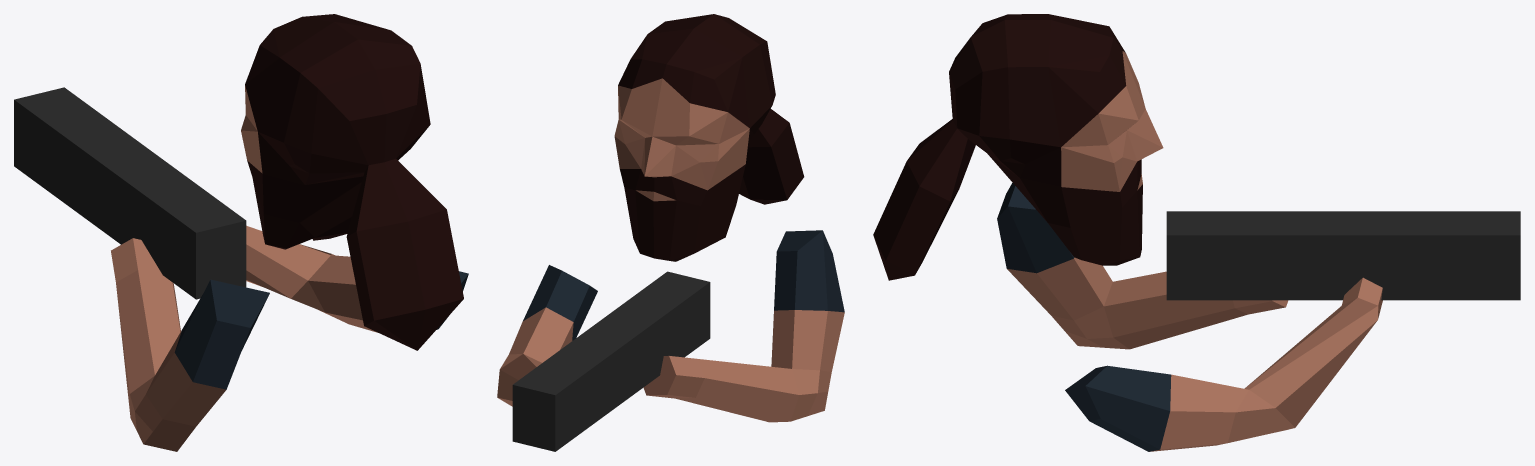
The model's file is player_head.obj.
The picture shows the model from 3 angles, left to right: view 1: azimuth 30°, elevation 25°; view 2: azimuth 150°, elevation 25°; view 3: azimuth 270°, elevation 25°; orthographic projection. The views are drawn at different scales.
Parts seen in each view (by area): view 1: Cube.002; view 2: Cube.002; view 3: Cube.002.
Part boxes in pixels (x1,y1,x2,y2): Cube.002: [14, 14, 468, 451]; Cube.002: [497, 14, 844, 451]; Cube.002: [873, 14, 1520, 451].
Size of the model in its own units: 1.63 by 1.94 by 2.89.
